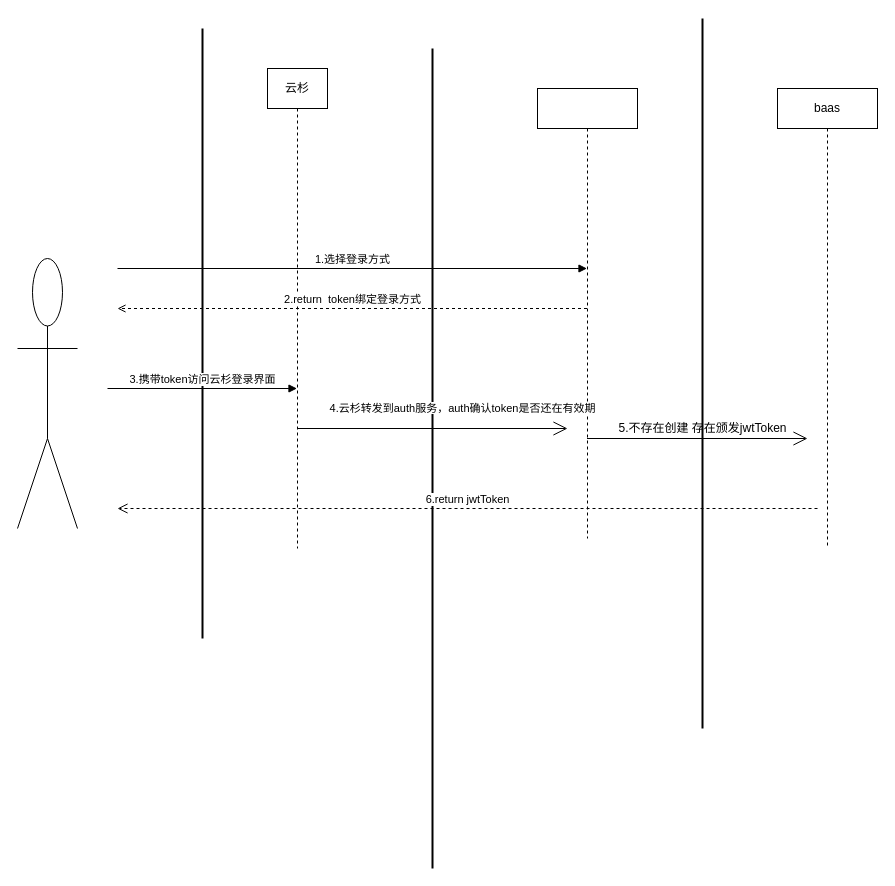
This 895x886 diagram has some shape labels left out. The box of each missing label's shape, as (x1, y1, x2, y2) in pixels:
auth: (536, 88, 638, 538)
user: (16, 258, 78, 528)
